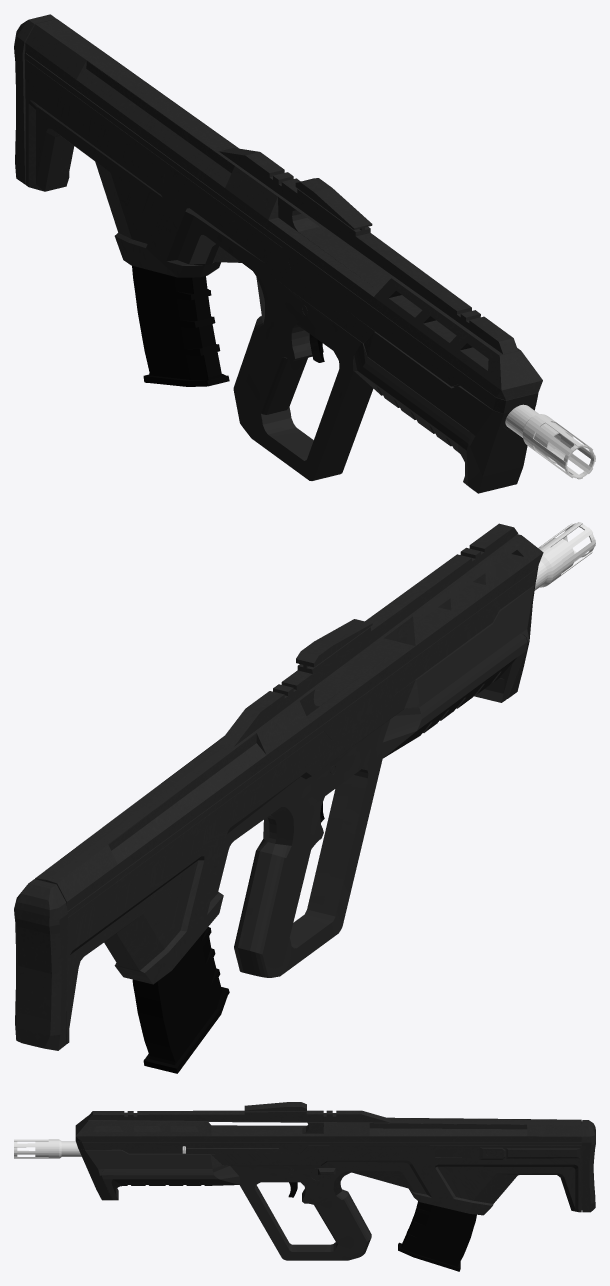
Rendered from Bulldog.fbx.
The picture shows the model from 3 angles, top to bottom: view 1: azimuth 30°, elevation 25°; view 2: azimuth 150°, elevation 25°; view 3: azimuth 270°, elevation 25°; orthographic projection. The views are drawn at different scales.
Visible parts, largest first — view 1: Hand, Magazine, Barrel; view 2: Hand, Magazine, Barrel; view 3: Hand, Magazine, Barrel.
Boxes of the visible parts, x1,y1,x2,y2 form: Hand: (14, 14, 542, 493); Magazine: (132, 265, 229, 386); Barrel: (505, 404, 595, 479); Hand: (14, 523, 543, 1050); Magazine: (132, 927, 229, 1073); Barrel: (534, 522, 595, 590); Hand: (75, 1102, 595, 1260); Magazine: (398, 1201, 476, 1271); Barrel: (14, 1139, 81, 1158).
Size of the model in its own units: 23.47 by 102 by 328.
